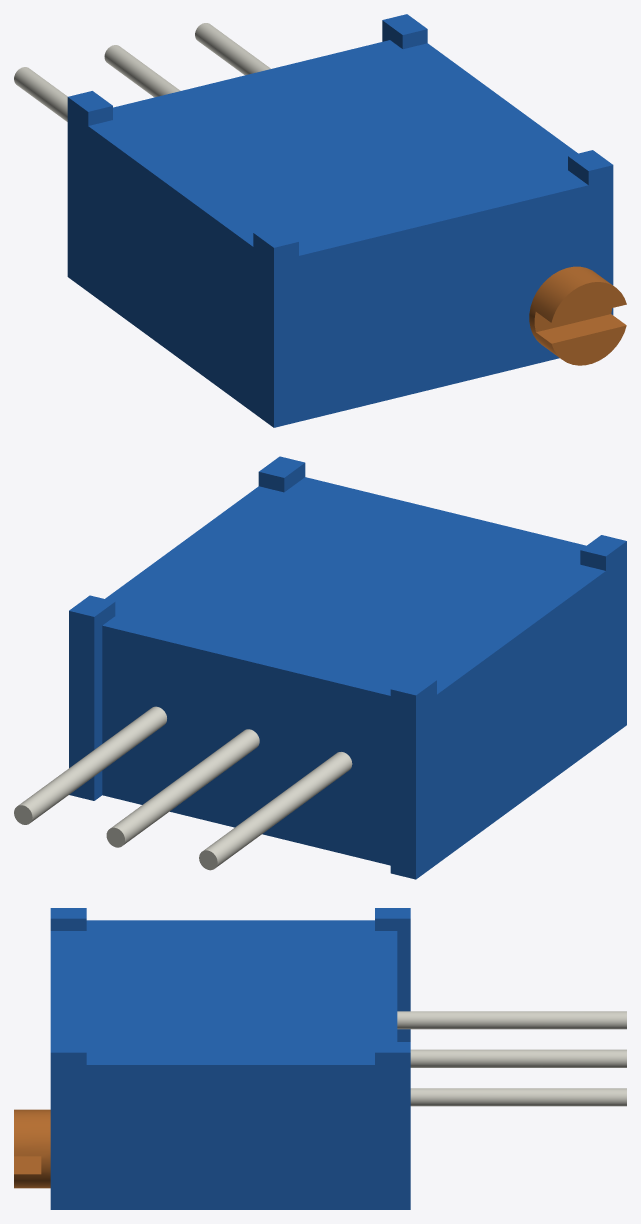
The model's file is potentiometer-bourns-3296w-v.glb.
3 views of the same model, one above another, from view 1: azimuth 30°, elevation 25°; view 2: azimuth 150°, elevation 25°; view 3: azimuth 270°, elevation 25° (orthographic). The views are drawn at different scales.
Visible parts, largest first — view 1: PLASTIC-BLUE-01, MET-BRONZE, PIN-01 (×3); view 2: PLASTIC-BLUE-01, PIN-01 (×3); view 3: PLASTIC-BLUE-01, PIN-01 (×3), MET-BRONZE.
Boxes of the visible parts, bbox=[...] form: PLASTIC-BLUE-01: bbox=[67, 14, 613, 427]; MET-BRONZE: bbox=[529, 266, 626, 365]; PIN-01 (×3): bbox=[14, 23, 270, 121]; PLASTIC-BLUE-01: bbox=[69, 456, 626, 879]; PIN-01 (×3): bbox=[18, 706, 352, 867]; PLASTIC-BLUE-01: bbox=[50, 908, 410, 1209]; PIN-01 (×3): bbox=[397, 1011, 626, 1106]; MET-BRONZE: bbox=[14, 1109, 50, 1188].
Bounding box in the file's own units: 9.53 × 4.83 × 17.07.
